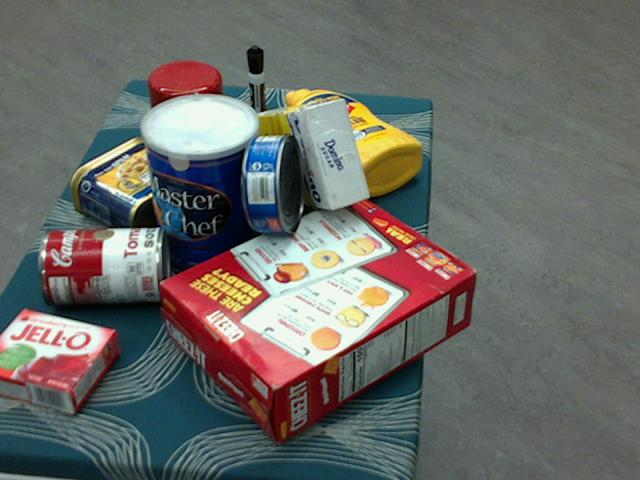cracker_box: (159, 191, 477, 442)
gelatin_box: (0, 307, 119, 413)
large_marker: (246, 45, 267, 149)
master_chef_can: (140, 96, 262, 281)
mug: (147, 61, 231, 161)
mustard_bottle: (283, 88, 422, 197)
potted_meat_can: (70, 138, 202, 240)
sugar_box: (250, 100, 369, 210)
tomato_soup_can: (37, 226, 168, 303)
tuna_fish_can: (241, 133, 304, 231)
